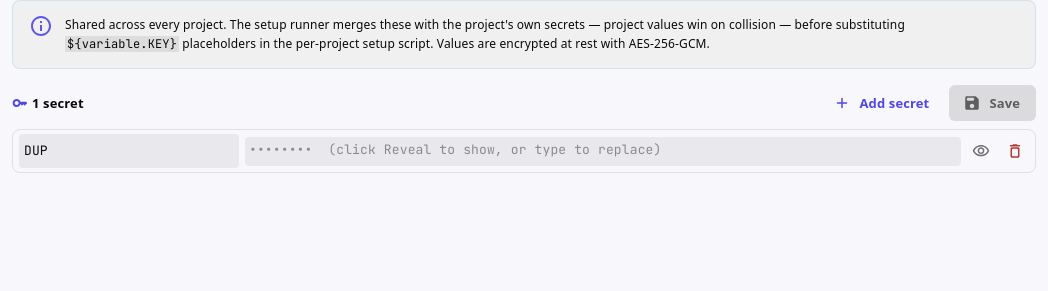
Test case: SharedSecretsTab › shows a warning for duplicate key names
Expected: the field showing "DUP" is shown, [24, 137, 234, 165]
// Add a second row
Click the button "Add secret". click: (882, 103)
box: [820, 85, 945, 121]
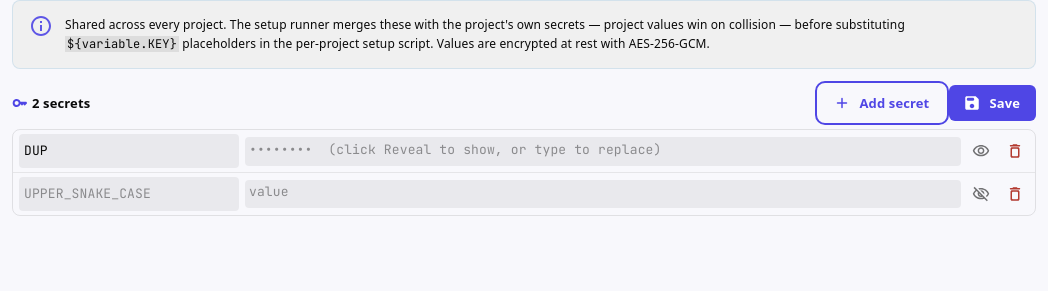
// Type the same key name into the new row
Type "DUP" into the field with placeholder "UPPER_SNAKE_CASE". click: (129, 194)
box: [24, 180, 234, 208]
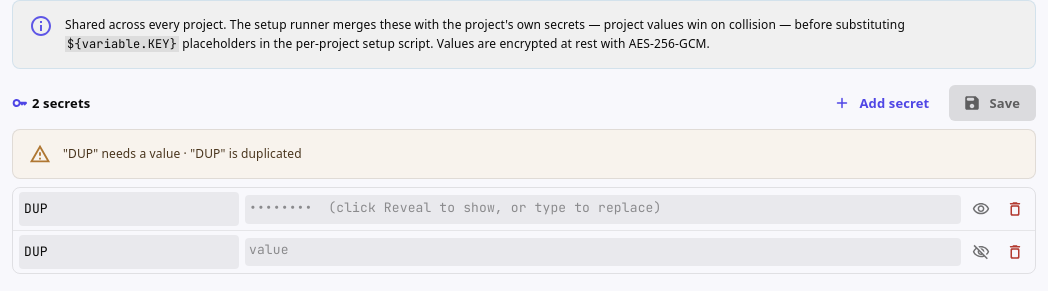
Expected: the text "\"DUP\" needs a value · \"DUP\" is duplicated" is shown, [63, 145, 302, 162]
